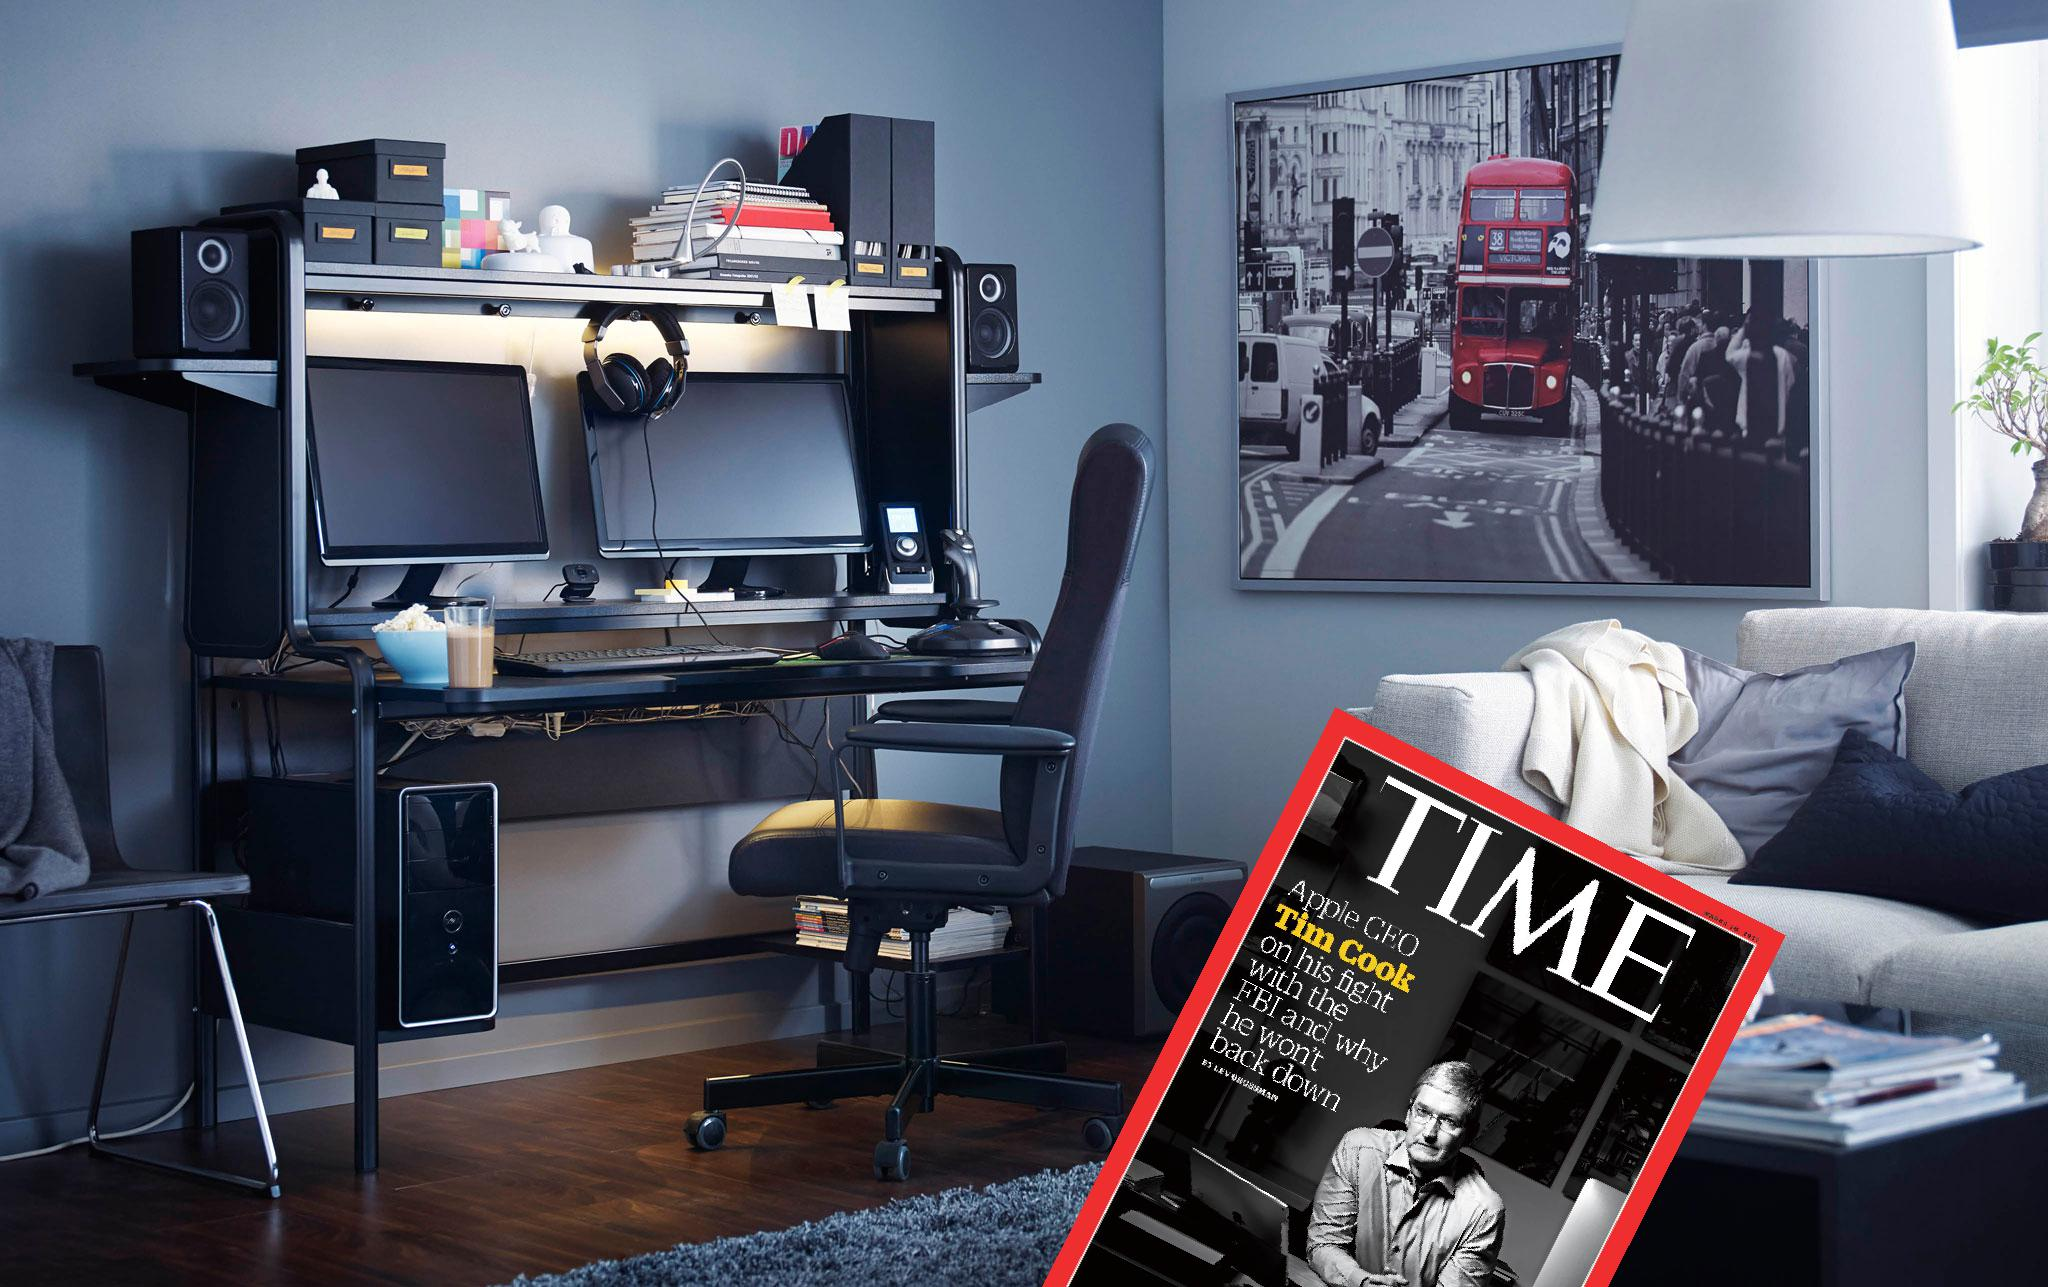times: (1031, 704, 1786, 1287)
